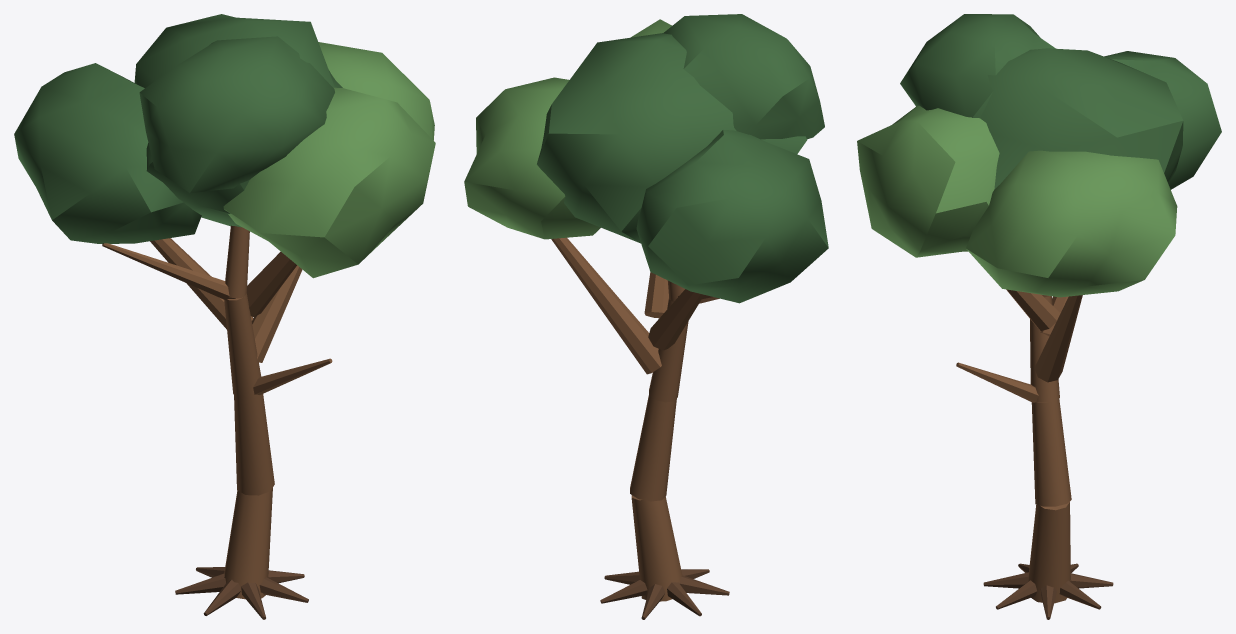
File: mesh_broadleaf_hero_a.glb
3 renders of one model, left to right at view 1: azimuth 30°, elevation 25°; view 2: azimuth 150°, elevation 25°; view 3: azimuth 270°, elevation 25°, orthographic. The views are drawn at different scales.
Parts seen in each view (by area): view 1: mesh_broadleaf_hero_a__leaf_dark, mesh_broadleaf_hero_a__leaf_mid, mesh_broadleaf_hero_a__bark_mid, mesh_broadleaf_hero_a__bark_dark; view 2: mesh_broadleaf_hero_a__leaf_dark, mesh_broadleaf_hero_a__bark_mid, mesh_broadleaf_hero_a__leaf_mid, mesh_broadleaf_hero_a__bark_dark; view 3: mesh_broadleaf_hero_a__leaf_mid, mesh_broadleaf_hero_a__leaf_dark, mesh_broadleaf_hero_a__bark_mid, mesh_broadleaf_hero_a__bark_dark.
Part boxes in pixels (x1,y1,x2,y2): mesh_broadleaf_hero_a__leaf_dark: [14, 14, 342, 243]; mesh_broadleaf_hero_a__leaf_mid: [223, 42, 435, 278]; mesh_broadleaf_hero_a__bark_mid: [102, 225, 332, 599]; mesh_broadleaf_hero_a__bark_dark: [175, 567, 308, 619]; mesh_broadleaf_hero_a__leaf_dark: [537, 14, 828, 303]; mesh_broadleaf_hero_a__bark_mid: [551, 237, 719, 601]; mesh_broadleaf_hero_a__leaf_mid: [464, 19, 671, 239]; mesh_broadleaf_hero_a__bark_dark: [600, 569, 729, 619]; mesh_broadleaf_hero_a__leaf_mid: [857, 105, 1177, 297]; mesh_broadleaf_hero_a__leaf_dark: [900, 14, 1221, 189]; mesh_broadleaf_hero_a__bark_mid: [956, 289, 1082, 603]; mesh_broadleaf_hero_a__bark_dark: [983, 563, 1113, 619].
Size of the model in its own units: 14.68 by 21.75 by 12.99.
